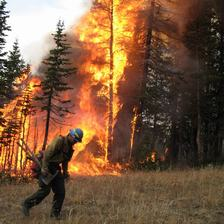fire: (5, 4, 167, 174)
